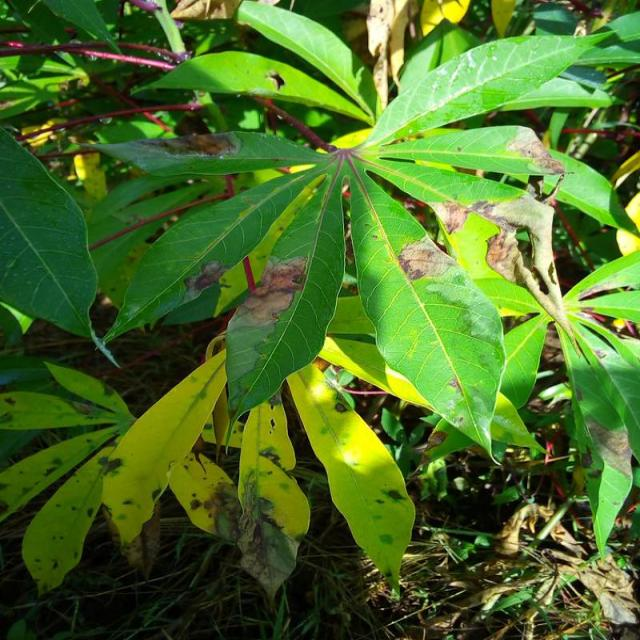cassava leaf: (3, 3, 637, 609), (345, 150, 507, 463)
